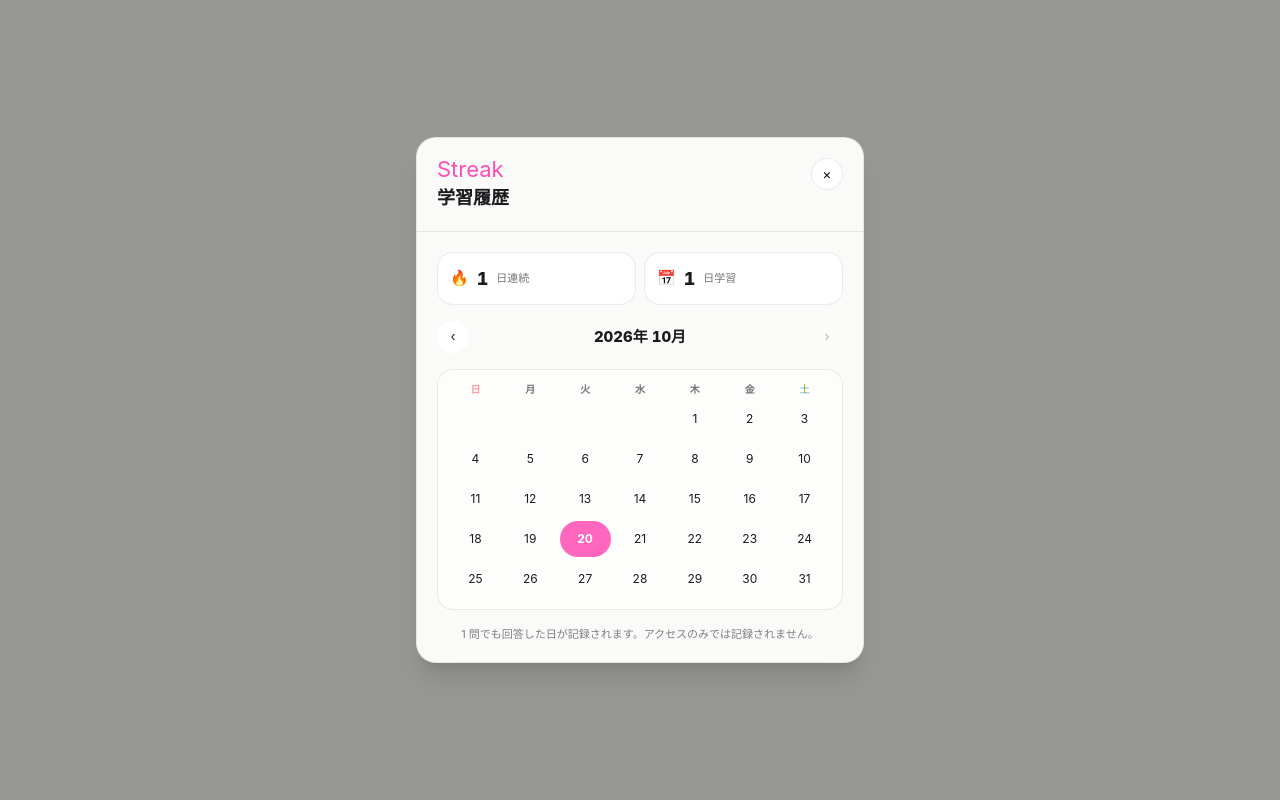
Test case: StudyDaysModal › loads wrong answers through browser-safe APIs and links to the right subject
Click the button "20" at [585, 539], box [560,521,611,557]
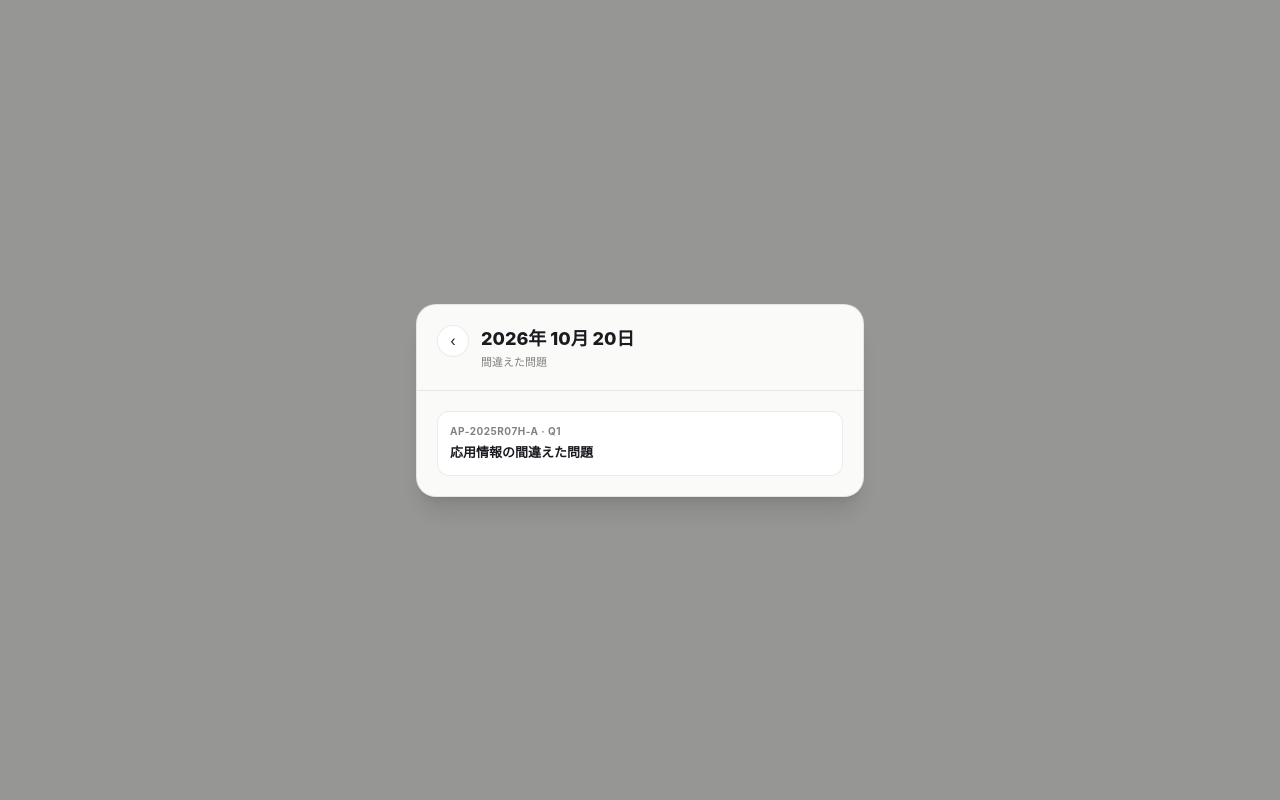
Result: the text "応用情報の間違えた問題" is shown at [450,444,593,460]
